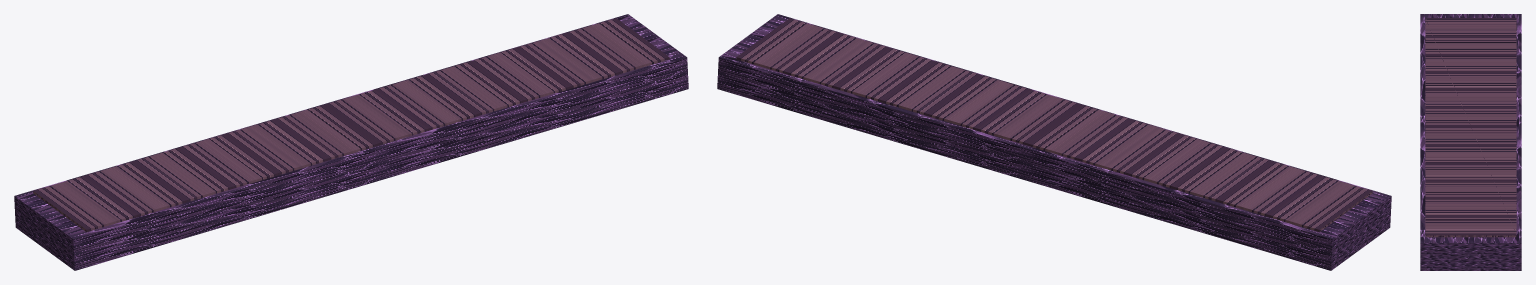
File: ringShard.glb
3 views of the same model, side by side, from view 1: azimuth 30°, elevation 25°; view 2: azimuth 150°, elevation 25°; view 3: azimuth 270°, elevation 25° (orthographic). The views are drawn at different scales.
Visible parts, largest first — view 1: LOD0._kind_trim_band_ringstone_repea, LOD0._kind_terrain_file_cliff.png_re; view 2: LOD0._kind_trim_band_ringstone_repea, LOD0._kind_terrain_file_cliff.png_re; view 3: LOD0._kind_trim_band_ringstone_repea, LOD0._kind_terrain_file_cliff.png_re.
Boxes of the visible parts, x1,y1,x2,y2 form: LOD0._kind_trim_band_ringstone_repea: (33, 18, 669, 232); LOD0._kind_terrain_file_cliff.png_re: (14, 14, 688, 270); LOD0._kind_trim_band_ringstone_repea: (736, 18, 1372, 232); LOD0._kind_terrain_file_cliff.png_re: (717, 14, 1391, 270); LOD0._kind_trim_band_ringstone_repea: (1425, 18, 1516, 237); LOD0._kind_terrain_file_cliff.png_re: (1420, 14, 1521, 270).
Size of what is drawn, in the model's own units: 120 by 12.29 by 20.01.
2 materials, 2 textured.
